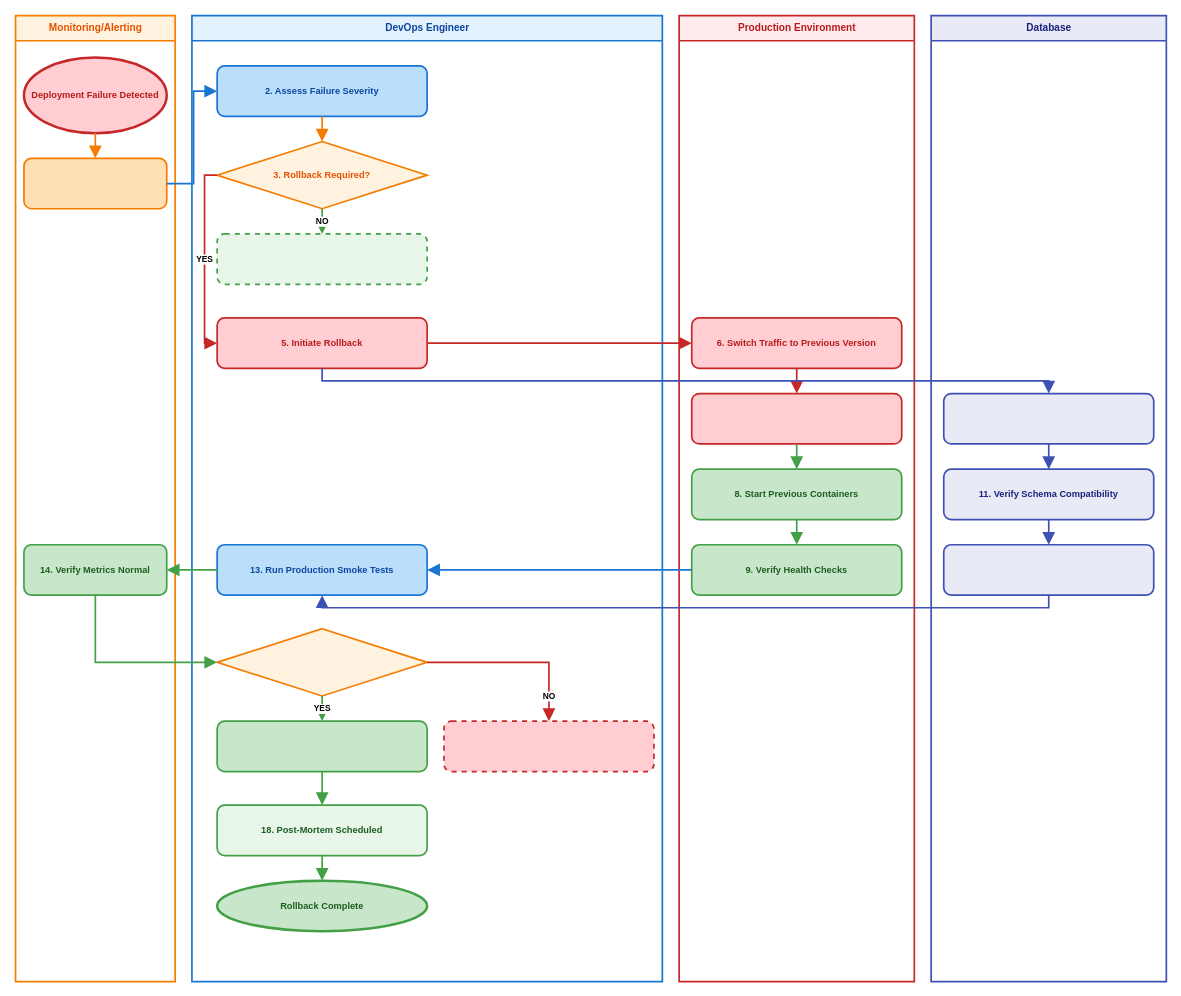
This 1181x996 diagram has some shape labels left out. The centre of each missing label's shape, as x and y in pixels:
"1. Alert On-Call Engineer" belongs at point 95,183.
"10. Run DB Migration Rollback" belongs at point 1048,418.
"12. Verify Data Integrity" belongs at point 1048,569.
"15. Rollback Successful?" belongs at point 322,661.
"16. Document Incident" belongs at point 322,746.
"17. Escalate to Team Lead (manual coordination)" belongs at point 548,746.
"4. Investigate & Fix Forward (redeploy via deployment-flow)" belongs at point 322,259.
"7. Stop Failed Containers" belongs at point 796,418.
